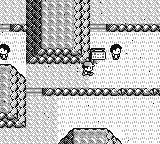leer: (91, 48, 106, 63)
main: (82, 62, 95, 75)
no-caminable: (26, 0, 90, 64), (1, 65, 26, 128), (59, 129, 121, 143)
npc: (110, 44, 122, 59), (1, 44, 10, 59)
salto: (42, 89, 160, 95), (107, 24, 160, 31), (10, 25, 25, 31)
